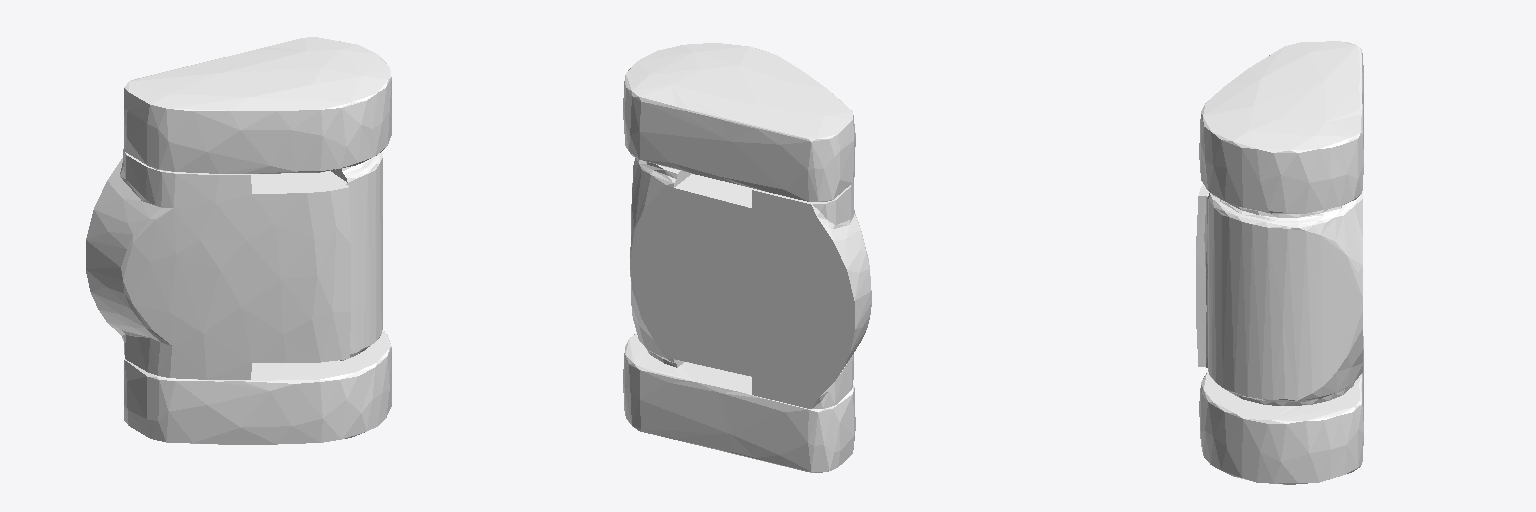
Rendered from head_pan.obj.
The picture shows the model from 3 angles: view 1: azimuth 30°, elevation 25°; view 2: azimuth 150°, elevation 25°; view 3: azimuth 270°, elevation 25°; orthographic projection.
Bounding box in the file's own units: 0.2537 × 0.3212 × 0.1436.